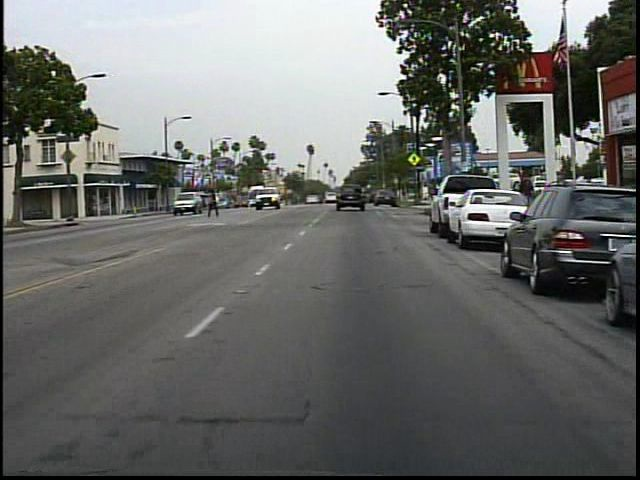person: (513, 169, 541, 226), (206, 185, 224, 220)
